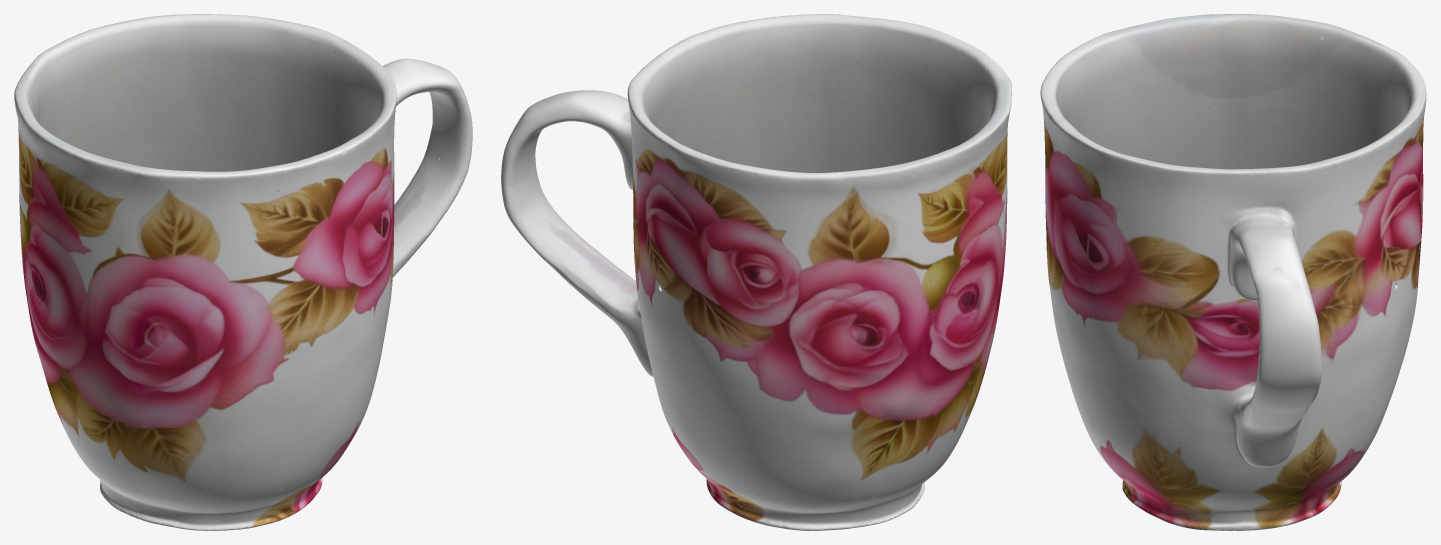
File: taza-3d.glb
The picture shows the model from 3 angles, left to right: view 1: azimuth 30°, elevation 25°; view 2: azimuth 150°, elevation 25°; view 3: azimuth 270°, elevation 25°; orthographic projection.
Bounding box in the file's own units: 2 × 1.67 × 1.49.
Materials: 1 (1 with a texture image).
